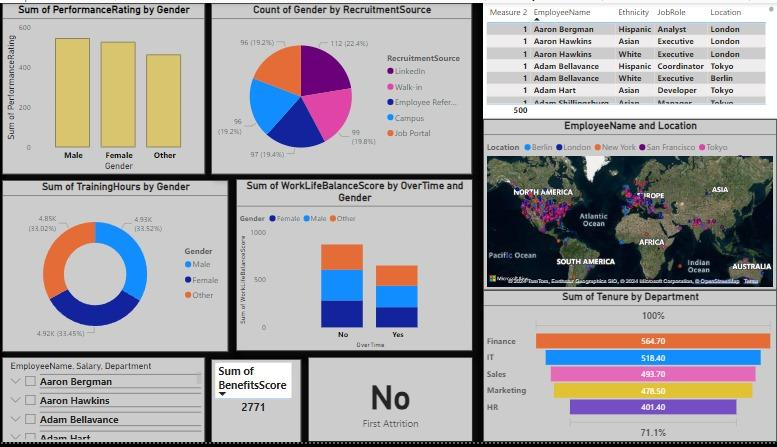

Layout of this report page (visuals, bound fields, positions):
{"tool":"powerbi","page":{"name":"Page 1","canvas":[1280,720],"ordinal":0},"visuals":[{"type":"columnChart","fields":{"Category":["HR_Analytics_Dataset.Gender"],"Y":["HR_Analytics_Dataset.PerformanceRating"]},"box":[10.1,0,332.6,280.5],"z":0},{"type":"donutChart","fields":{"Y":["HR_Analytics_Dataset.TrainingHours"],"Category":["HR_Analytics_Dataset.Gender"]},"box":[10.1,290.6,371.2,282.2],"z":1000},{"type":"pieChart","fields":{"Category":["HR_Analytics_Dataset.RecruitmentSource"],"Y":["HR_Analytics_Dataset.Gender"]},"box":[352.8,0,428.3,280.5],"z":2000},{"type":"slicer","fields":{"Values":["HR_Analytics_Dataset.EmployeeName","HR_Analytics_Dataset.Salary","HR_Analytics_Dataset.Department"]},"box":[10.1,579.5,332.6,141.1],"z":3000},{"type":"lineStackedColumnComboChart","fields":{"Category":["HR_Analytics_Dataset.OverTime"],"Y":["HR_Analytics_Dataset.WorkLifeBalanceScore"],"Series":["HR_Analytics_Dataset.Gender"]},"box":[393.1,288.9,388,282.2],"z":4000},{"type":"tableEx","fields":{"Values":["HR_Analytics_Dataset.BenefitsScore"]},"box":[352.8,582.9,147.8,137.7],"z":5000},{"type":"tableEx","fields":{"Values":["HR_Analytics_Dataset.Measure 2","HR_Analytics_Dataset.EmployeeName","HR_Analytics_Dataset.Ethnicity","HR_Analytics_Dataset.JobRole","HR_Analytics_Dataset.Location"]},"box":[797.9,0,482.1,189.8],"z":6000},{"type":"map","fields":{"Series":["HR_Analytics_Dataset.Location"],"Category":["HR_Analytics_Dataset.EmployeeName"]},"box":[797.9,189.8,482.1,280.5],"z":7000},{"type":"funnel","fields":{"Y":["HR_Analytics_Dataset.Tenure"],"Category":["HR_Analytics_Dataset.Department"]},"box":[798.2,470.4,481.8,249.1],"z":8000},{"type":"card","fields":{"Values":["HR_Analytics_Dataset.Attrition"]},"box":[511.3,580.2,270.4,139.3],"z":9000}]}

Visuals, with their boxes in screenshot pixels (x1, y1, x2, y2), scaled from the page's 1280x720 canvas onto the 777x447 screenshot:
columnChart - HR_Analytics_Dataset.Gender x HR_Analytics_Dataset.PerformanceRating: l=6, t=0, r=208, b=174
donutChart - HR_Analytics_Dataset.TrainingHours x HR_Analytics_Dataset.Gender: l=6, t=180, r=231, b=356
pieChart - HR_Analytics_Dataset.RecruitmentSource x HR_Analytics_Dataset.Gender: l=214, t=0, r=474, b=174
slicer - HR_Analytics_Dataset.EmployeeName x HR_Analytics_Dataset.Salary: l=6, t=360, r=208, b=446
lineStackedColumnComboChart - HR_Analytics_Dataset.OverTime x HR_Analytics_Dataset.WorkLifeBalanceScore: l=239, t=179, r=474, b=355
tableEx - HR_Analytics_Dataset.BenefitsScore: l=214, t=362, r=304, b=446
tableEx - HR_Analytics_Dataset.Measure 2 x HR_Analytics_Dataset.EmployeeName: l=484, t=0, r=776, b=118
map - HR_Analytics_Dataset.Location x HR_Analytics_Dataset.EmployeeName: l=484, t=118, r=776, b=292
funnel - HR_Analytics_Dataset.Tenure x HR_Analytics_Dataset.Department: l=485, t=292, r=776, b=446
card - HR_Analytics_Dataset.Attrition: l=310, t=360, r=475, b=446
